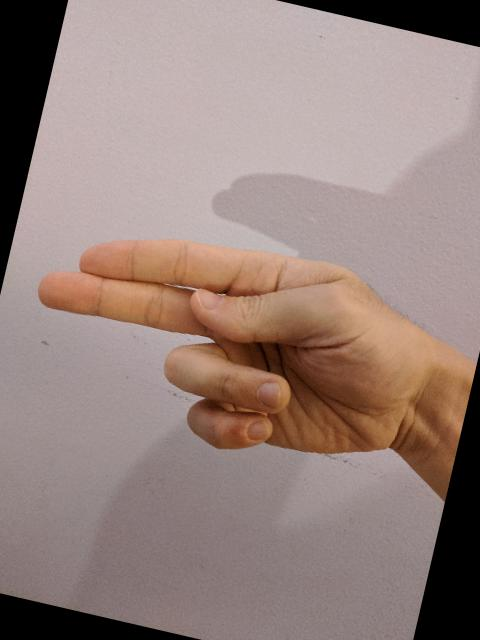H: (2, 188, 445, 496)
